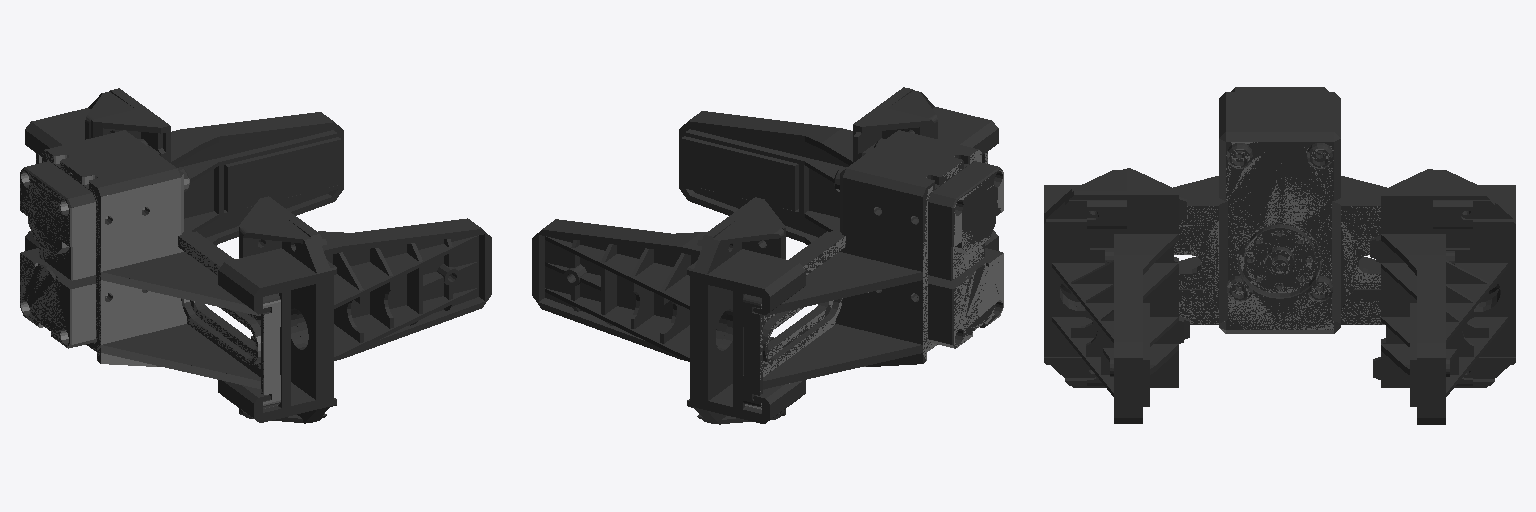
robot.urdf — End Effector Full Build:
<?xml version="1.0" encoding="utf-8"?>
<!-- This URDF was automatically created by SolidWorks to URDF Exporter! Originally created by Stephen Brawner (brawner@gmail.com) 
     Commit Version: 1.6.0-4-g7f85cfe  Build Version: 1.6.7995.38578
     For more information, please see http://wiki.ros.org/sw_urdf_exporter -->
<robot
  name="End Effector Full Build">
  <link
    name="base_link">
    <inertial>
      <origin
        xyz="0.63995994186501 0.882752683758569 1.30997136234927"
        rpy="0 0 0" />
      <mass
        value="0.0759116549493632" />
      <inertia
        ixx="2.88404383988425E-05"
        ixy="7.89906279816193E-07"
        ixz="4.15408614492225E-09"
        iyy="1.87061294837777E-05"
        iyz="-6.78103600826131E-08"
        izz="2.3184991925105E-05" />
    </inertial>
    <visual>
      <origin
        xyz="0 0 0"
        rpy="0 0 0" />
      <geometry>
        <mesh
          filename="package://end_effector_full_build/meshes/base_link.STL" />
      </geometry>
      <material
        name="">
        <color
          rgba="0.250980392156863 0.250980392156863 0.250980392156863 1" />
      </material>
    </visual>
    <collision>
      <origin
        xyz="0 0 0"
        rpy="0 0 0" />
      <geometry>
        <mesh
          filename="package://end_effector_full_build/meshes/base_link.STL" />
      </geometry>
    </collision>
  </link>
  <link
    name="ring_link">
    <inertial>
      <origin
        xyz="0.63995994186501 0.882752683758569 1.30997136234927"
        rpy="0 0 0" />
      <mass
        value="0.0759116549493632" />
      <inertia
        ixx="2.88404383988425E-05"
        ixy="7.89906279816192E-07"
        ixz="4.15408614492222E-09"
        iyy="1.87061294837777E-05"
        iyz="-6.7810360082612E-08"
        izz="2.3184991925105E-05" />
    </inertial>
    <visual>
      <origin
        xyz="0 0 0"
        rpy="0 0 0" />
      <geometry>
        <mesh
          filename="package://end_effector_full_build/meshes/ring_link.STL" />
      </geometry>
      <material
        name="">
        <color
          rgba="0.501960784313725 0.501960784313725 0.501960784313725 1" />
      </material>
    </visual>
    <collision>
      <origin
        xyz="0 0 0"
        rpy="0 0 0" />
      <geometry>
        <mesh
          filename="package://end_effector_full_build/meshes/ring_link.STL" />
      </geometry>
    </collision>
  </link>
  <joint
    name="ring_joint"
    type="revolute">
    <origin
      xyz="0 0 0"
      rpy="1.5708 0 0" />
    <parent
      link="base_link" />
    <child
      link="ring_link" />
    <axis
      xyz="-1 0 0" />
    <limit
      lower="0"
      upper="0"
      effort="0"
      velocity="0" />
  </joint>
  <link
    name="finger_1">
    <inertial>
      <origin
        xyz="0.680923229107462 0.874516569433822 1.35574022749771"
        rpy="0 0 0" />
      <mass
        value="0.0274218746612953" />
      <inertia
        ixx="7.35775041024055E-06"
        ixy="-3.29946062098072E-09"
        ixz="2.17678939216607E-07"
        iyy="8.21755201624369E-06"
        iyz="-1.75531616535631E-10"
        izz="1.30421771999728E-05" />
    </inertial>
    <visual>
      <origin
        xyz="0 0 0"
        rpy="0 0 0" />
      <geometry>
        <mesh
          filename="package://end_effector_full_build/meshes/finger_1.STL" />
      </geometry>
      <material
        name="">
        <color
          rgba="0.250980392156863 0.250980392156863 0.250980392156863 1" />
      </material>
    </visual>
    <collision>
      <origin
        xyz="0 0 0"
        rpy="0 0 0" />
      <geometry>
        <mesh
          filename="package://end_effector_full_build/meshes/finger_1.STL" />
      </geometry>
    </collision>
  </link>
  <joint
    name="finger_1_joint"
    type="prismatic">
    <origin
      xyz="0 0 0"
      rpy="1.5708 0 0" />
    <parent
      link="base_link" />
    <child
      link="finger_1" />
    <axis
      xyz="1 0 0" />
    <limit
      lower="0"
      upper="0"
      effort="0"
      velocity="0" />
  </joint>
  <link
    name="finger_2">
    <inertial>
      <origin
        xyz="0.680723229127122 0.874333283162996 1.26420245619229"
        rpy="0 0 0" />
      <mass
        value="0.0274218746612973" />
      <inertia
        ixx="7.35775041042796E-06"
        ixy="3.29946062069661E-09"
        ixz="-2.17678941658349E-07"
        iyy="8.21755201624478E-06"
        iyz="-1.75531615189774E-10"
        izz="1.3042177199787E-05" />
    </inertial>
    <visual>
      <origin
        xyz="0 0 0"
        rpy="0 0 0" />
      <geometry>
        <mesh
          filename="package://end_effector_full_build/meshes/finger_2.STL" />
      </geometry>
      <material
        name="">
        <color
          rgba="0.250980392156863 0.250980392156863 0.250980392156863 1" />
      </material>
    </visual>
    <collision>
      <origin
        xyz="0 0 0"
        rpy="0 0 0" />
      <geometry>
        <mesh
          filename="package://end_effector_full_build/meshes/finger_2.STL" />
      </geometry>
    </collision>
  </link>
  <joint
    name="finger_2_joint"
    type="prismatic">
    <origin
      xyz="0 0 0"
      rpy="1.5708 0 0" />
    <parent
      link="base_link" />
    <child
      link="finger_2" />
    <axis
      xyz="1 0 0" />
    <limit
      lower="0"
      upper="0"
      effort="0"
      velocity="0" />
    <mimic
      joint="finger_1_joint"
      multiplier="-1"
      offset="0" />
  </joint>
</robot>

--- Render facts (derived) ---
3 views of the same robot in one strip: view 1: azimuth 30°, elevation 25°; view 2: azimuth 150°, elevation 25°; view 3: azimuth 270°, elevation 25° (orthographic).
Model End Effector Full Build with 4 links and 3 joints (1 revolute, 2 prismatic), rooted at base_link, posed all joints at 0.
Links seen in each view (by area): view 1: finger_1, base_link, ring_link, finger_2; view 2: base_link, finger_2, finger_1, ring_link; view 3: base_link, finger_2, finger_1, ring_link.
Boxes of the visible links, bbox=[...] form: finger_1: bbox=[218, 196, 491, 423]; base_link: bbox=[20, 130, 280, 401]; ring_link: bbox=[20, 150, 280, 408]; finger_2: bbox=[25, 88, 343, 250]; base_link: bbox=[743, 130, 1002, 407]; finger_2: bbox=[532, 197, 805, 424]; finger_1: bbox=[679, 87, 998, 250]; ring_link: bbox=[745, 150, 1003, 409]; base_link: bbox=[1173, 87, 1386, 329]; finger_2: bbox=[1370, 169, 1515, 424]; finger_1: bbox=[1044, 168, 1189, 423]; ring_link: bbox=[1174, 139, 1384, 333].
Size in the robot's own frame: 0.1188 by 0.1285 by 0.0669 metres.
4 mesh visuals loaded from 4 distinct referenced files (4 binary STL).
